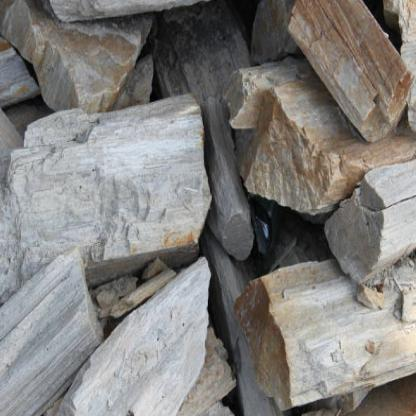Sedimentary_Limestone: (1, 102, 214, 310), (230, 245, 416, 415), (235, 49, 399, 228), (62, 243, 222, 415)
